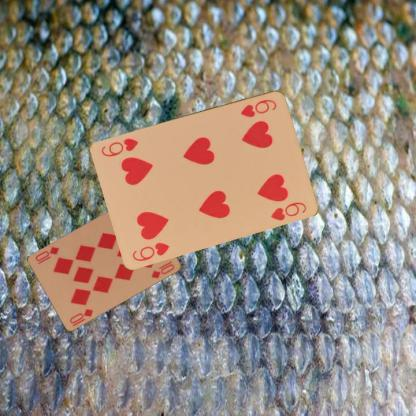10d: (67, 306, 94, 328)
6h: (129, 240, 171, 262), (238, 97, 278, 119)
